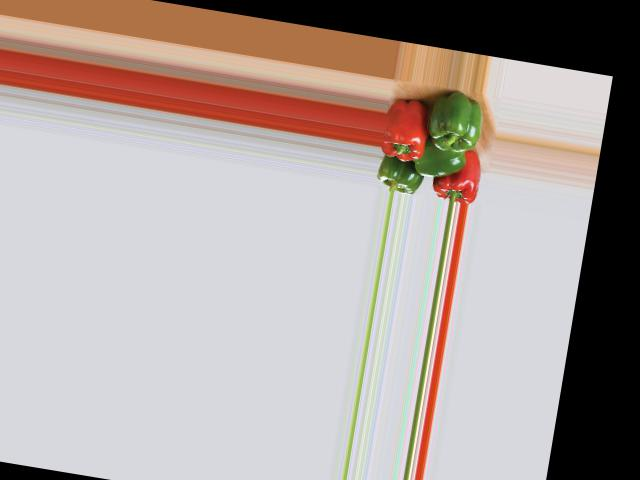bell_pepper: (380, 90, 436, 162)
